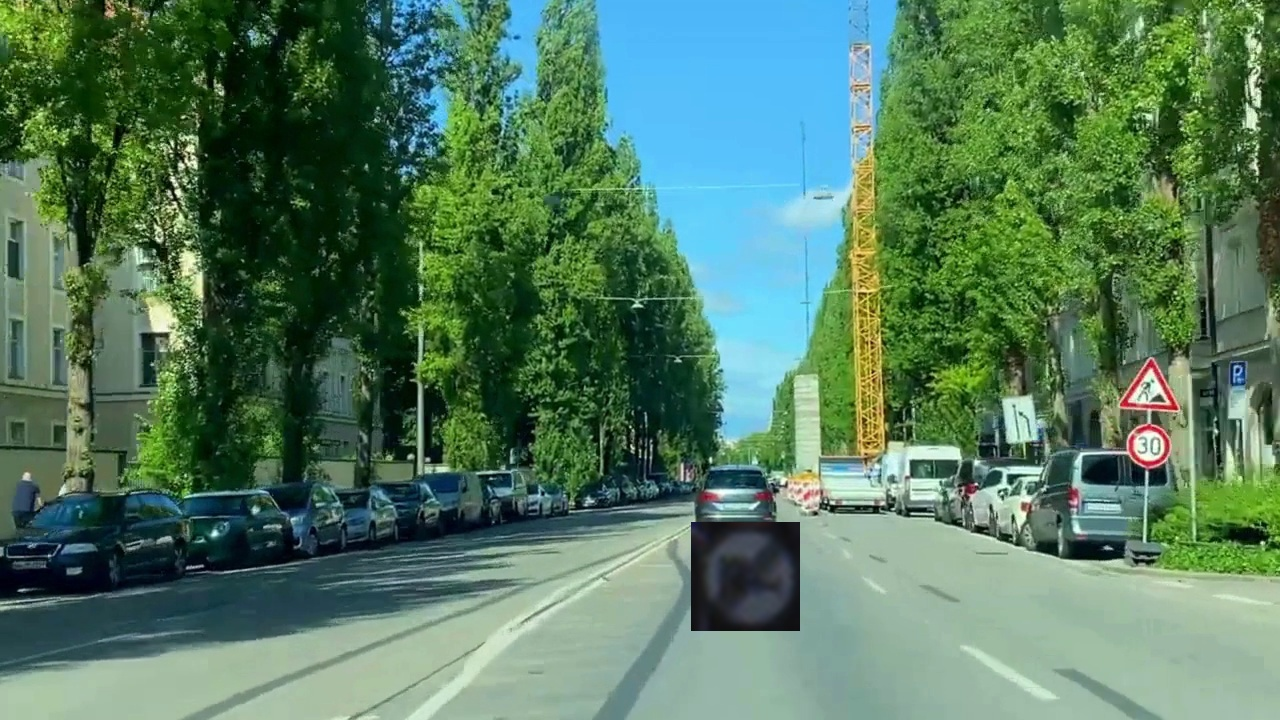End no pass >3.5t: (691, 522, 800, 631)
